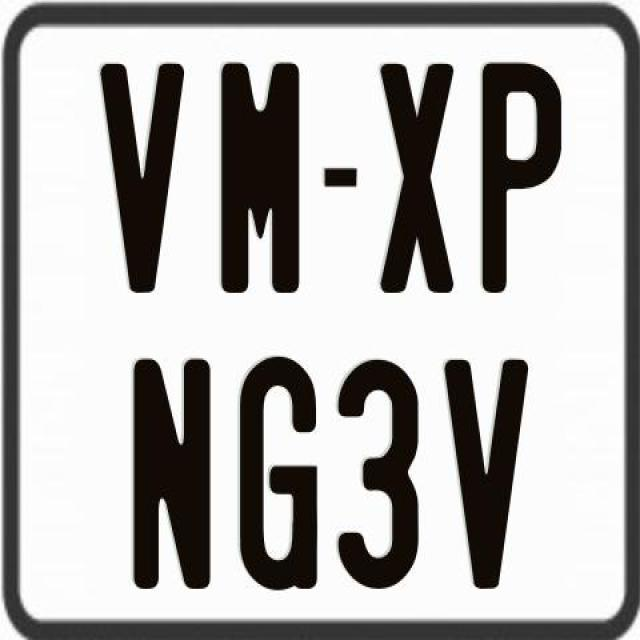3: (338, 357, 426, 592)
G: (236, 356, 321, 594)
M: (222, 58, 306, 296)
N: (132, 357, 212, 596)
P: (480, 61, 564, 301)
V: (442, 360, 534, 598), (100, 63, 186, 300)
X: (381, 59, 458, 288)
